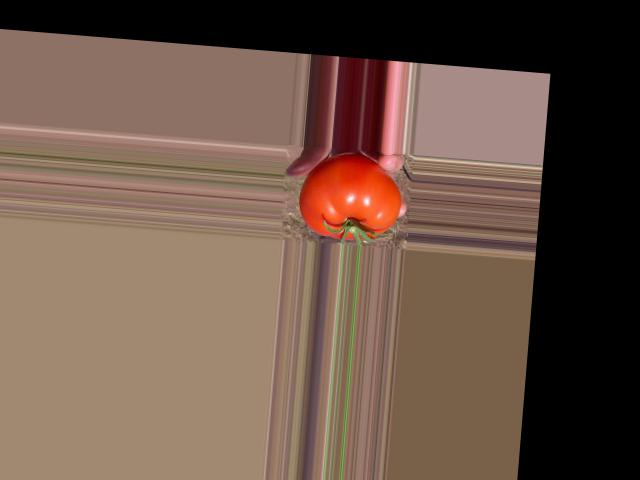tomato: (298, 149, 404, 243)
